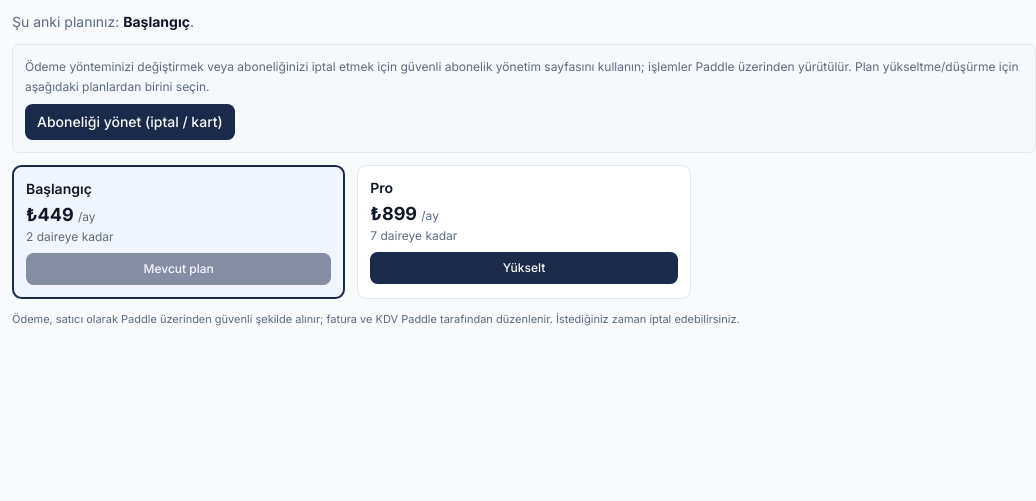
Test: PaddlePlans — plan değişikliği onayı › 🚨 süresi dolmuş önizleme (400) → panel kapanır, 'Yükselt' yeniden basılabilir; ikinci tık TAZE önizleme ister
Step 1. Click the button "Yükselt" → [524, 268], box [370, 252, 678, 284]
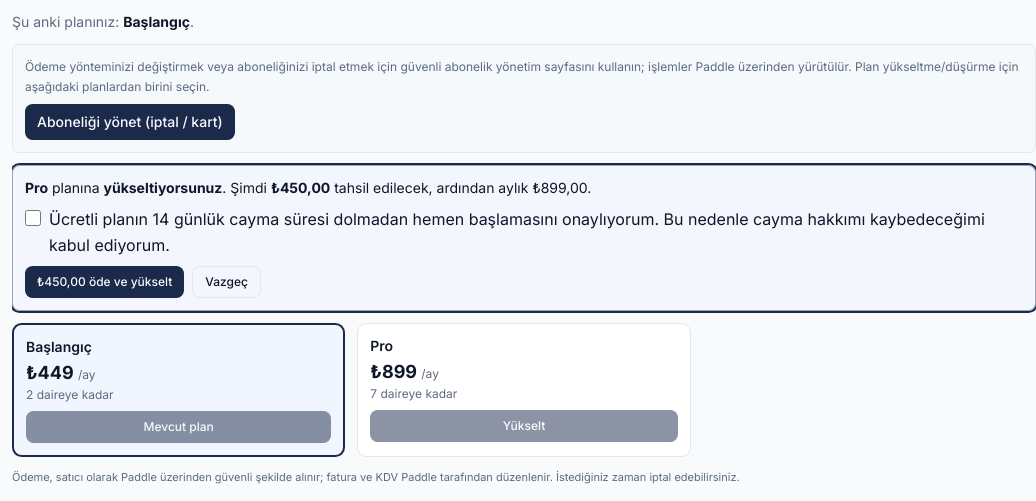
Step 2. Click the checkbox named "consent-upgrade-immediateStart" → [33, 218], box [25, 210, 41, 226]
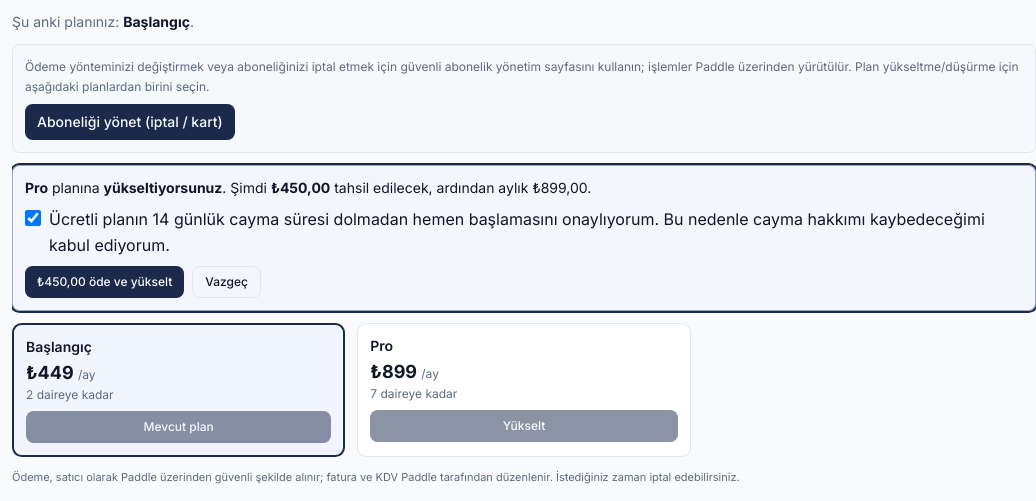
Step 3. Click the button "₺450,00 öde ve yükselt" → [105, 282], box [25, 266, 184, 298]
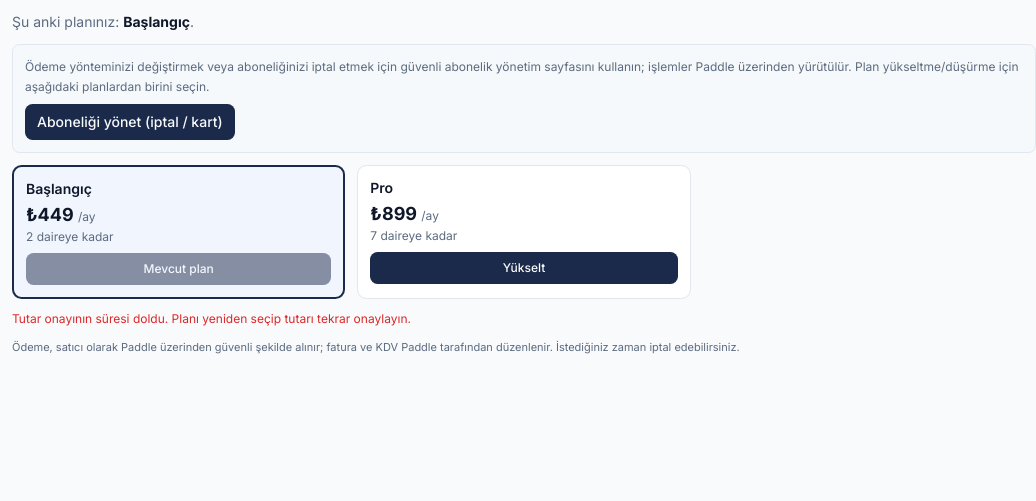
Now the text "Tutar onayının süresi doldu. Planı yeniden seçip tutarı tekrar onaylayın." is shown, box [12, 311, 411, 326]
Now the button "₺450,00 öde ve yükselt" is gone
Now the button "Yükselt" is enabled
Step 4. Click the button "Yükselt" → [524, 268], box [370, 252, 678, 284]
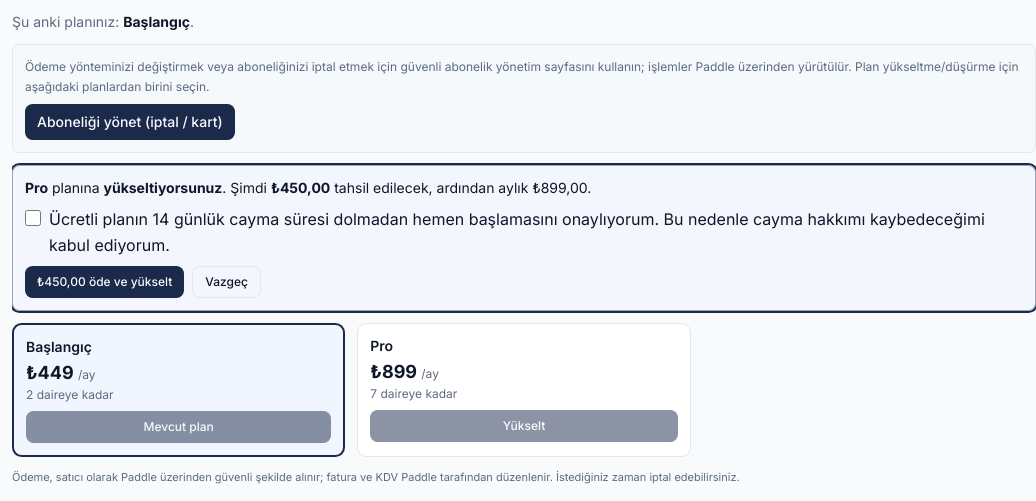
Now the button "₺450,00 öde ve yükselt" is shown, box [25, 266, 184, 298]
